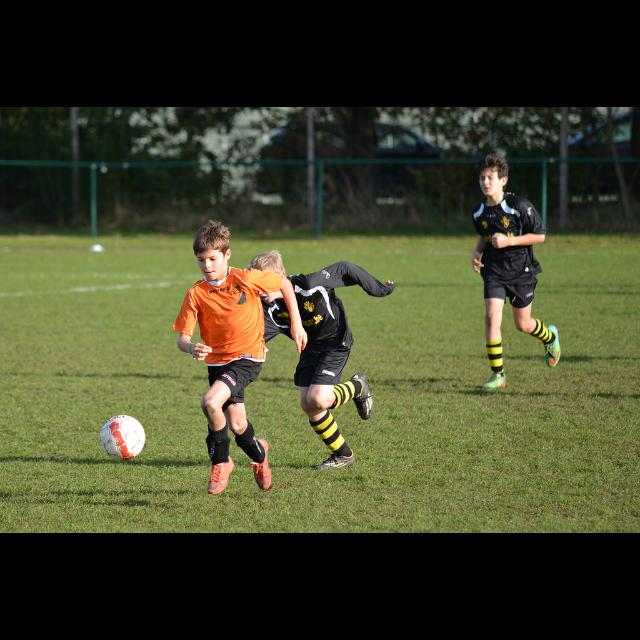Football: (96, 413, 146, 461)
